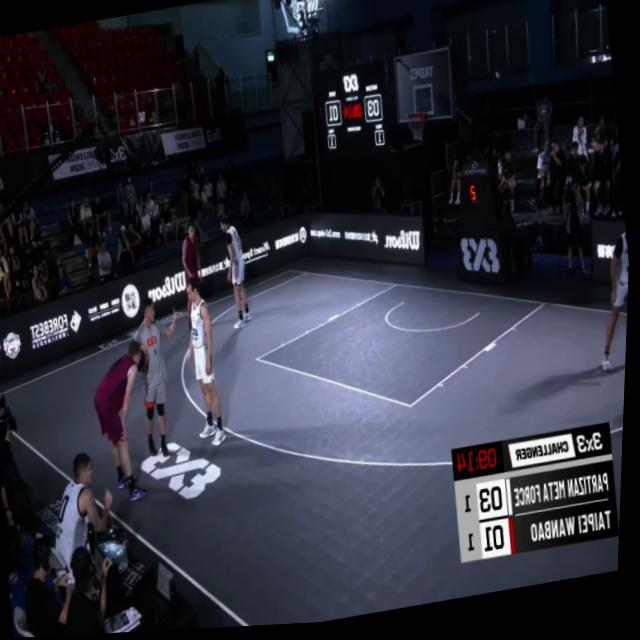ball: (132, 343, 155, 381)
hoop: (401, 112, 431, 149)
player: (87, 340, 161, 513), (182, 275, 234, 449), (585, 224, 633, 389), (212, 208, 258, 334), (175, 221, 212, 324)
